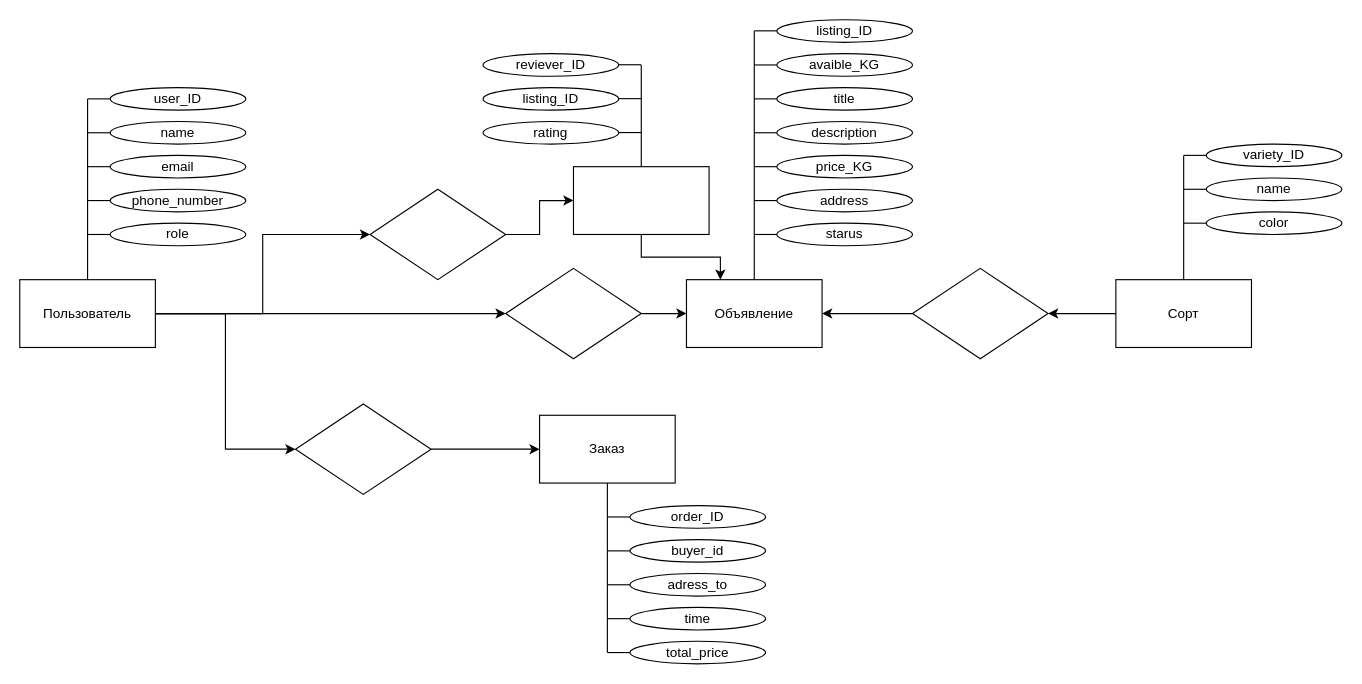
This 1362x684 diagram has some shape labels left out. Here are the shapes that lost their labels. From the top down, the centre of each, then its label:
At (640,200): "Отзыв".
At (437,234): "Пишет".
At (573,313): "публикует".
At (979,313): "Относится к".
At (362,448): "Размещает".
